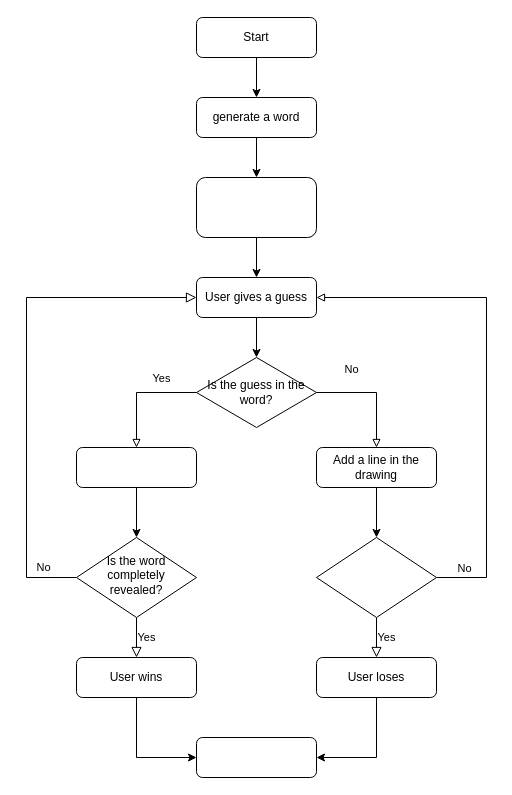
This 512x795 diagram has some shape labels left out. Each missing label, with the centre of its shape:
Does the drawing complete?: point 376,577
End: point 256,757
Generate blanks according to the number of characters in the word: point 256,207
Reveal the matched characters: point 136,467
